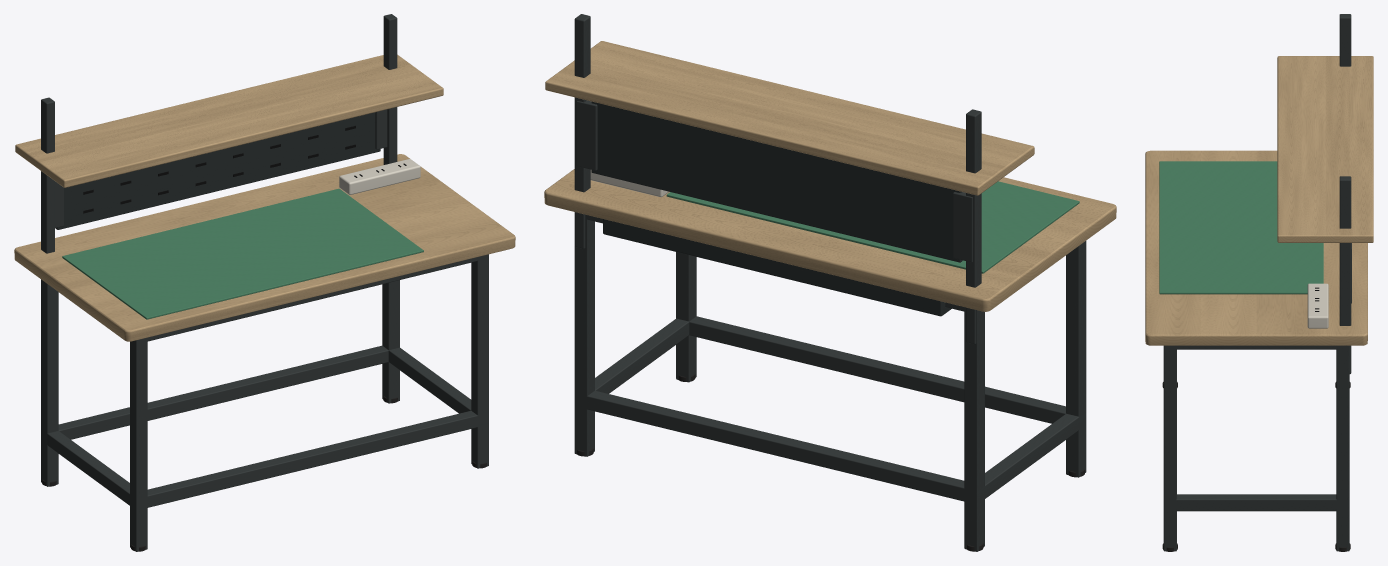
The model's file is electronics-repair-bench.glb.
3 views of the same model, side by side, from view 1: azimuth 30°, elevation 25°; view 2: azimuth 150°, elevation 25°; view 3: azimuth 270°, elevation 25° (orthographic). The views are drawn at different scales.
Visible parts, largest first — view 1: Technical work surface, Antistatic repair mat, Raised test instrument shelf, Rear accessory panel, Long frame tie, Long frame tie.001, Structural corner upright, Structural corner upright.002, Structural corner upright.001, End frame tie, End frame tie.001, Structural corner upright.003 (+4 smaller); view 2: Raised test instrument shelf, Rear accessory panel, Technical work surface, Long frame tie.001, Long frame tie, Antistatic repair mat, Cable trough, Structural corner upright.001, Structural corner upright, Structural corner upright.003, End frame tie, End frame tie.001 (+5 smaller); view 3: Antistatic repair mat, Raised test instrument shelf, Technical work surface, End frame tie.001, Structural corner upright.003, Structural corner upright.002, Instrument shelf upright.001, Integrated power bar, End frame tie.003, Instrument shelf upright.
Part boxes in pixels (left/top/right/bottom): Technical work surface: left=14, top=154, right=515, bottom=341; Antistatic repair mat: left=62, top=188, right=423, bottom=319; Raised test instrument shelf: left=15, top=54, right=443, bottom=187; Rear accessory panel: left=55, top=112, right=380, bottom=229; Long frame tie: left=130, top=411, right=478, bottom=509; Long frame tie.001: left=41, top=345, right=388, bottom=444; Structural corner upright: left=130, top=338, right=147, bottom=551; Structural corner upright.002: left=471, top=258, right=488, bottom=468; Structural corner upright.001: left=41, top=279, right=58, bottom=486; End frame tie: left=47, top=431, right=146, bottom=509; End frame tie.001: left=388, top=347, right=488, bottom=426; Structural corner upright.003: left=382, top=280, right=399, bottom=403; Raised test instrument shelf: left=545, top=41, right=1034, bottom=195; Rear accessory panel: left=591, top=101, right=962, bottom=262; Technical work surface: left=544, top=169, right=1116, bottom=311; Long frame tie.001: left=575, top=390, right=964, bottom=501; Long frame tie: left=689, top=316, right=1086, bottom=428; Antistatic repair mat: left=666, top=181, right=1079, bottom=273; Cable trough: left=603, top=219, right=951, bottom=316; Structural corner upright.001: left=964, top=310, right=984, bottom=551; Structural corner upright: left=1066, top=241, right=1086, bottom=477; Structural corner upright.003: left=574, top=218, right=594, bottom=456; End frame tie: left=965, top=413, right=1079, bottom=503; End frame tie.001: left=574, top=318, right=689, bottom=408; Antistatic repair mat: left=1159, top=161, right=1323, bottom=294; Raised test instrument shelf: left=1277, top=56, right=1373, bottom=242; Technical work surface: left=1145, top=150, right=1367, bottom=345; End frame tie.001: left=1163, top=494, right=1349, bottom=511; Structural corner upright.003: left=1336, top=346, right=1349, bottom=551; Structural corner upright.002: left=1163, top=346, right=1176, bottom=551; Instrument shelf upright.001: left=1339, top=176, right=1351, bottom=373; Integrated power bar: left=1307, top=283, right=1328, bottom=328; End frame tie.003: left=1163, top=345, right=1349, bottom=349; Instrument shelf upright: left=1339, top=14, right=1351, bottom=66.
Size of the model in its own units: 1.46 by 1.37 by 0.762.
8 materials, 8 textured.
